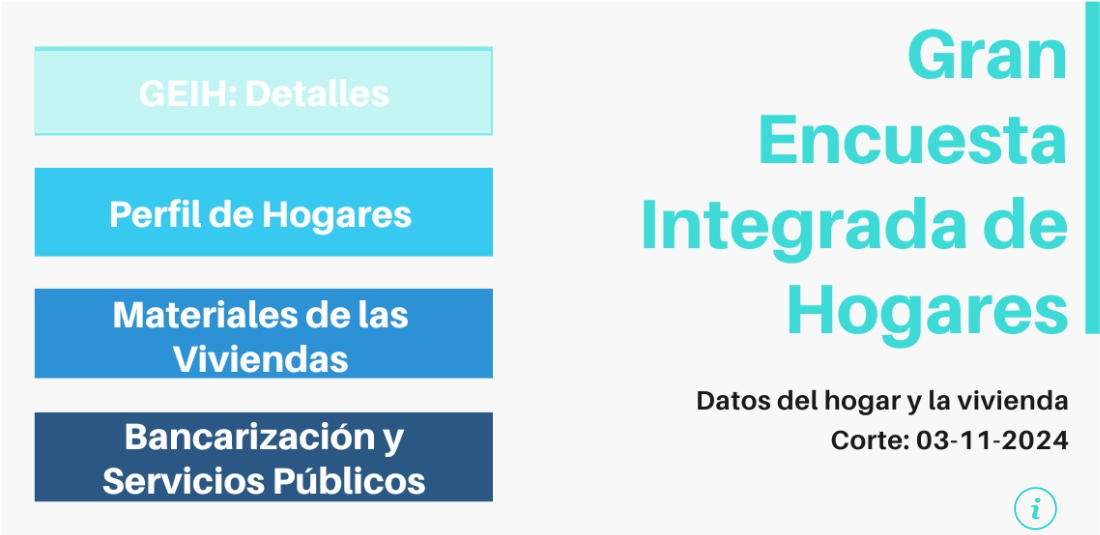

This screenshot's page, from the dashboard's own definition file:
{"tool":"tableau","page":{"name":"Home","canvas":[1280,720],"ordinal":2},"visuals":[{"type":"image","param":"Image/Home.png","box":[8,8,1264,704]},{"type":"dashboard-object","box":[124,127,456,89]},{"type":"dashboard-object","box":[126,249,456,86]},{"type":"dashboard-object","box":[124,369,457,89]},{"type":"dashboard-object","box":[125,493,457,88]},{"type":"worksheet","title":"Ref","mark":"Shape","rows":["Calculation_665969795033366534"],"box":[1084,560,80,56]}]}

Visuals, with their boxes on the page's 1280x720 design canvas (x1, y1, x2, y2). These are canvas units, not pixel positions in the 1100x535 screenshot, which may show the page scaled, cropped or inside an application window:
image: <box>8,8,1272,712</box>
dashboard-object: <box>124,127,580,216</box>
dashboard-object: <box>126,249,582,335</box>
dashboard-object: <box>124,369,581,458</box>
dashboard-object: <box>125,493,582,581</box>
"Ref" worksheet (Shape marks): <box>1084,560,1164,616</box>
